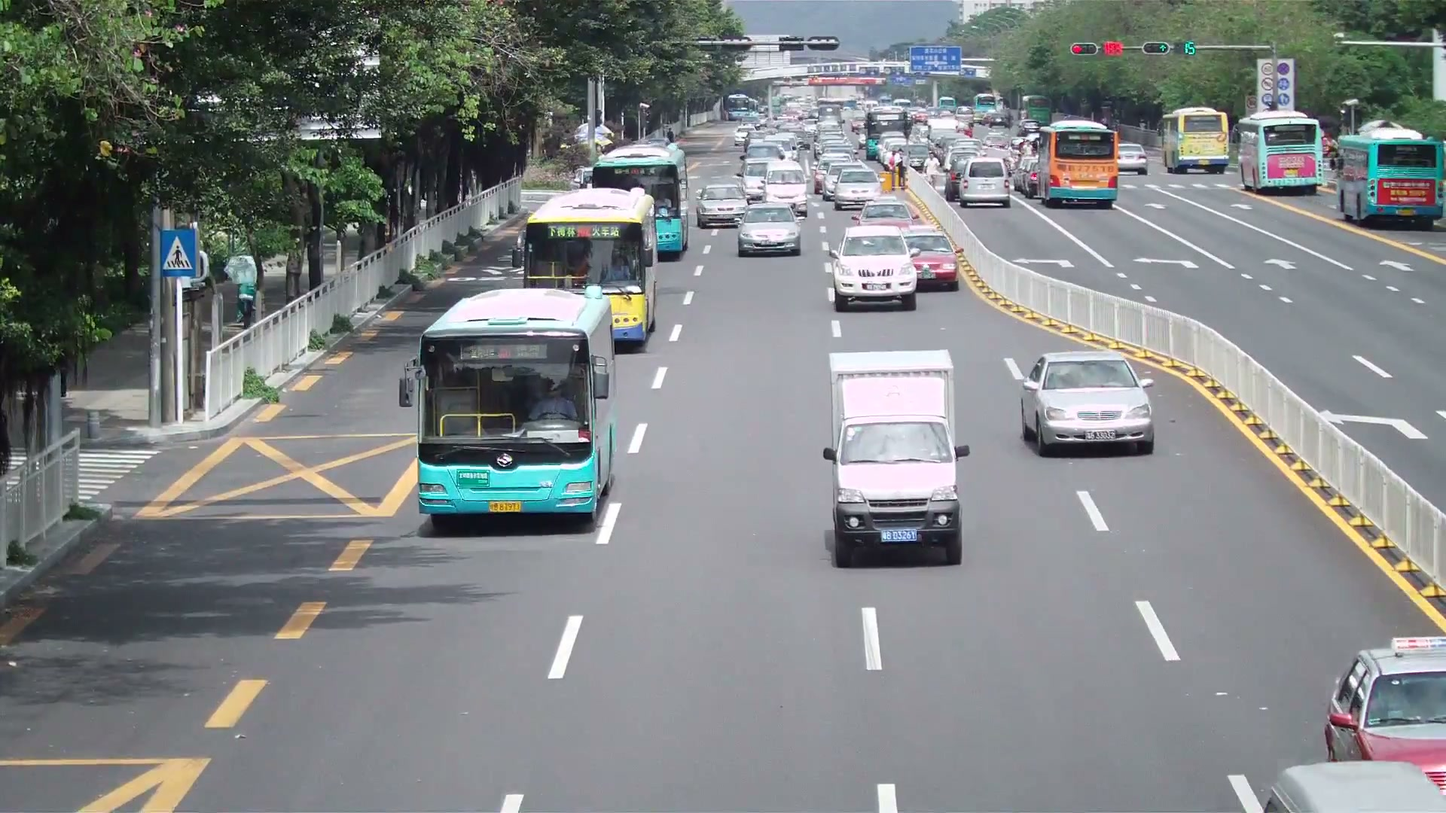bus: (415, 284, 618, 521), (521, 187, 659, 348), (588, 139, 688, 257), (1334, 123, 1444, 228), (1236, 110, 1324, 195), (1043, 117, 1120, 206), (1161, 107, 1231, 174)
car: (1322, 636, 1446, 790), (1004, 350, 1156, 457), (1262, 757, 1446, 812), (828, 226, 921, 311), (902, 229, 960, 292), (735, 207, 803, 256), (957, 158, 1011, 210), (696, 182, 750, 229), (827, 162, 883, 207), (1117, 142, 1149, 174)
pedestrian: (527, 376, 578, 423)
truck: (822, 349, 965, 568), (1334, 123, 1444, 228)
